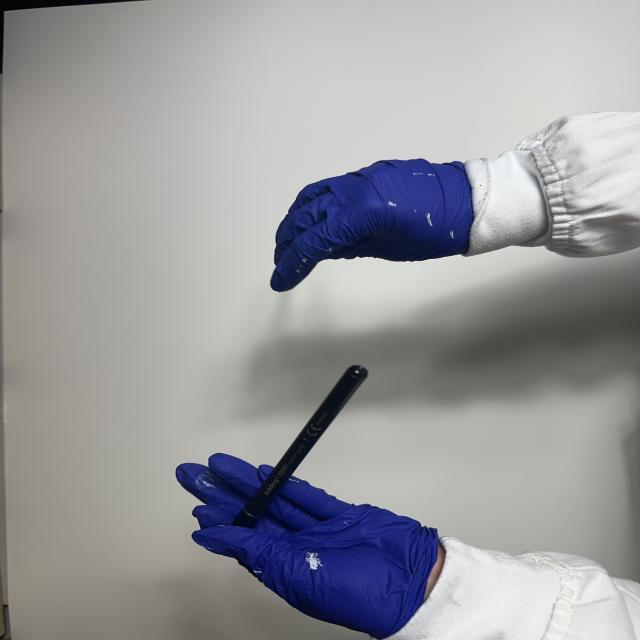gloves_contaminated: (176, 454, 439, 638), (271, 159, 472, 291)
